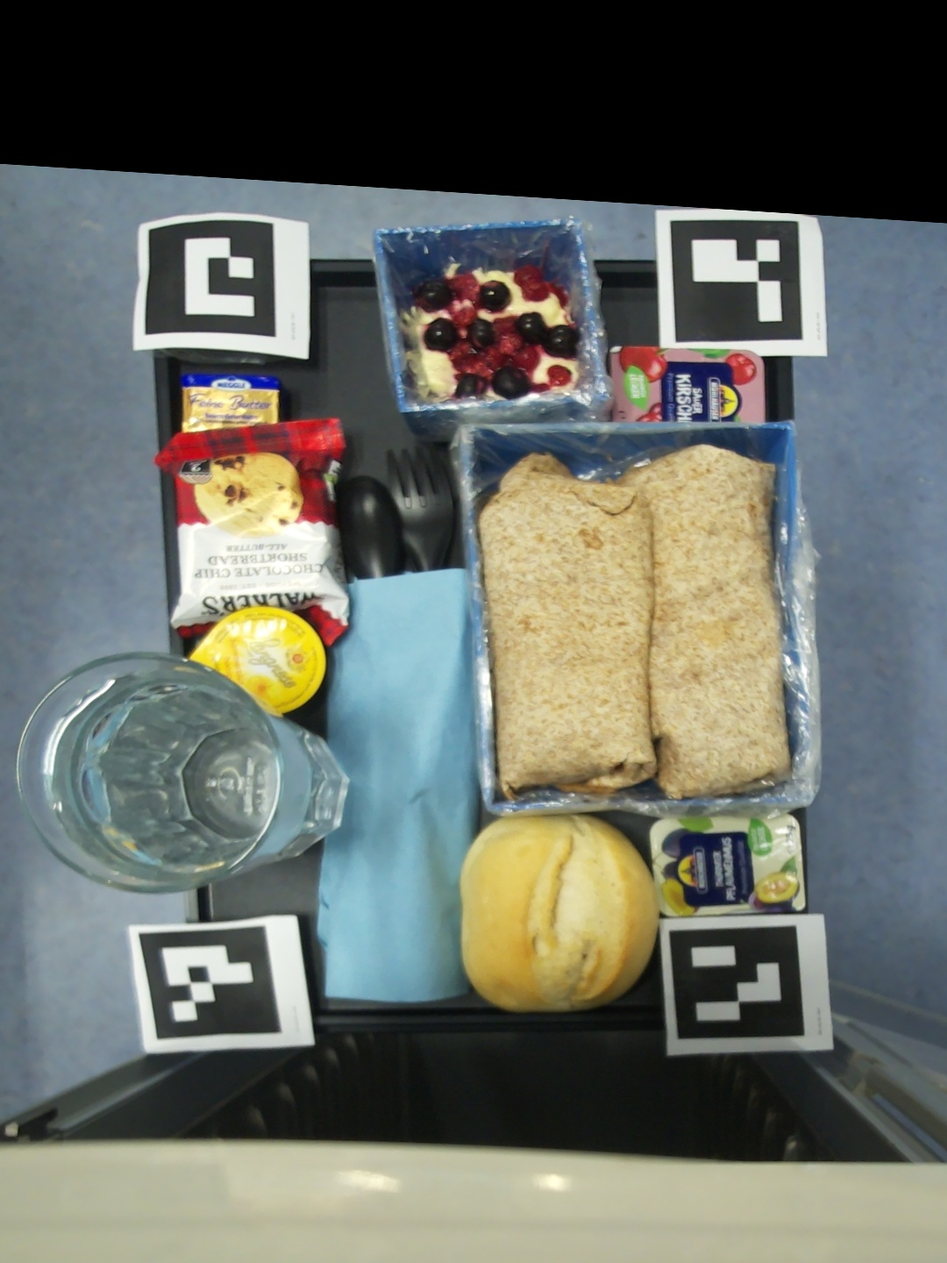bread_roll: (460, 814, 657, 1011)
butter: (182, 375, 280, 435)
cherry_jam: (606, 340, 763, 423)
cookie: (153, 419, 351, 648)
honey: (189, 608, 325, 714)
plum_jam: (648, 814, 805, 917)
vanilla_pudding_with_fruits: (409, 262, 582, 398)
water_bottle: (17, 653, 349, 893)
wrap_half_1: (478, 453, 655, 799)
wrap_half_2: (613, 444, 788, 802)
